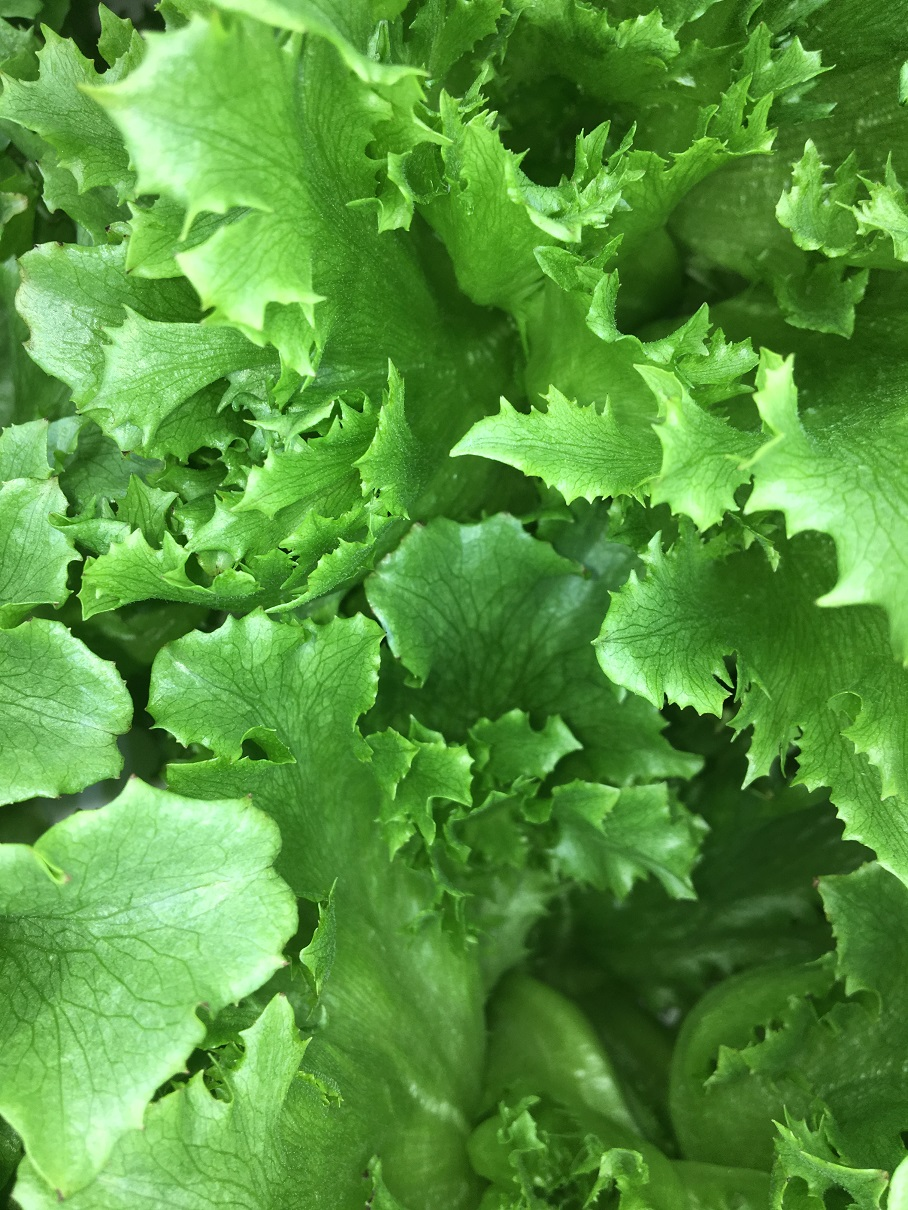tipburn: (263, 939, 313, 987), (260, 972, 307, 1021), (187, 984, 228, 1026), (49, 852, 89, 895), (38, 1175, 83, 1210), (231, 782, 270, 820), (92, 210, 131, 248), (350, 1154, 386, 1191), (872, 1158, 907, 1196), (26, 231, 66, 264), (121, 764, 159, 798), (348, 1185, 395, 1210), (112, 435, 145, 469), (8, 254, 32, 291), (802, 867, 831, 897), (30, 154, 53, 176)
